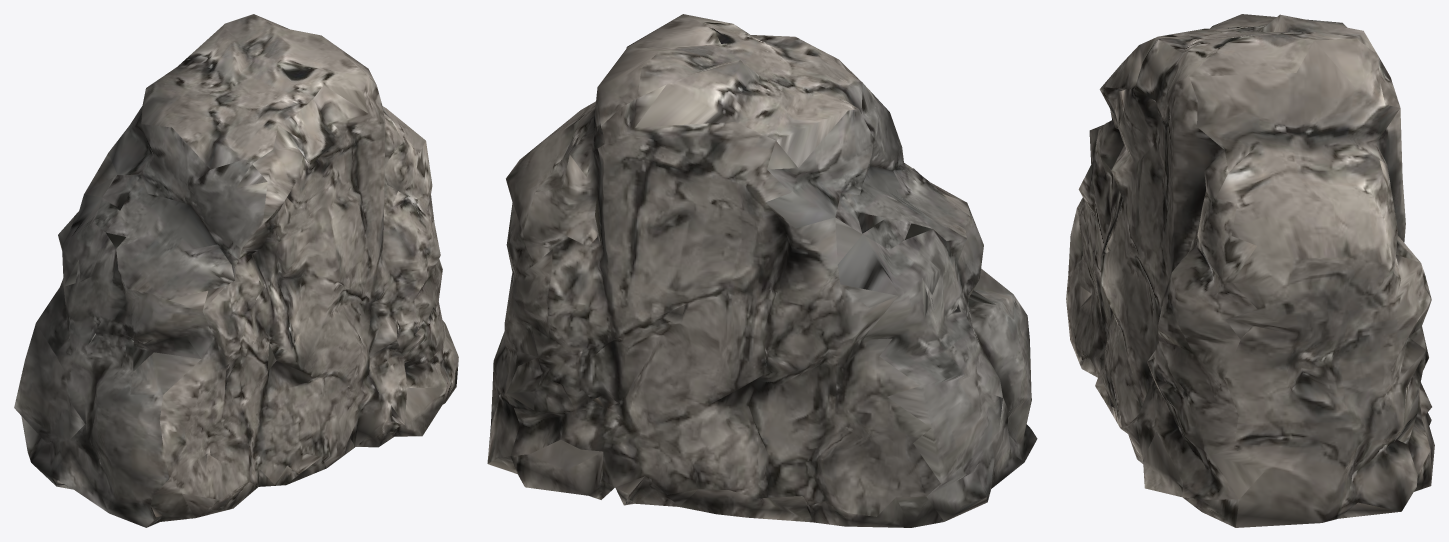
The model's file is crag_e_lod2.glb.
The picture shows the model from 3 angles, left to right: view 1: azimuth 30°, elevation 25°; view 2: azimuth 150°, elevation 25°; view 3: azimuth 270°, elevation 25°; orthographic projection. The views are drawn at different scales.
Parts seen in each view (by area): view 1: crag_e_lod2; view 2: crag_e_lod2; view 3: crag_e_lod2.
Boxes of the visible parts, x1,y1,x2,y2 form: crag_e_lod2: (14, 14, 458, 527); crag_e_lod2: (487, 14, 1037, 527); crag_e_lod2: (1066, 14, 1434, 527).
Bounding box in the file's own units: 61.09 × 51.68 × 42.08.
1 material, 1 textured.
